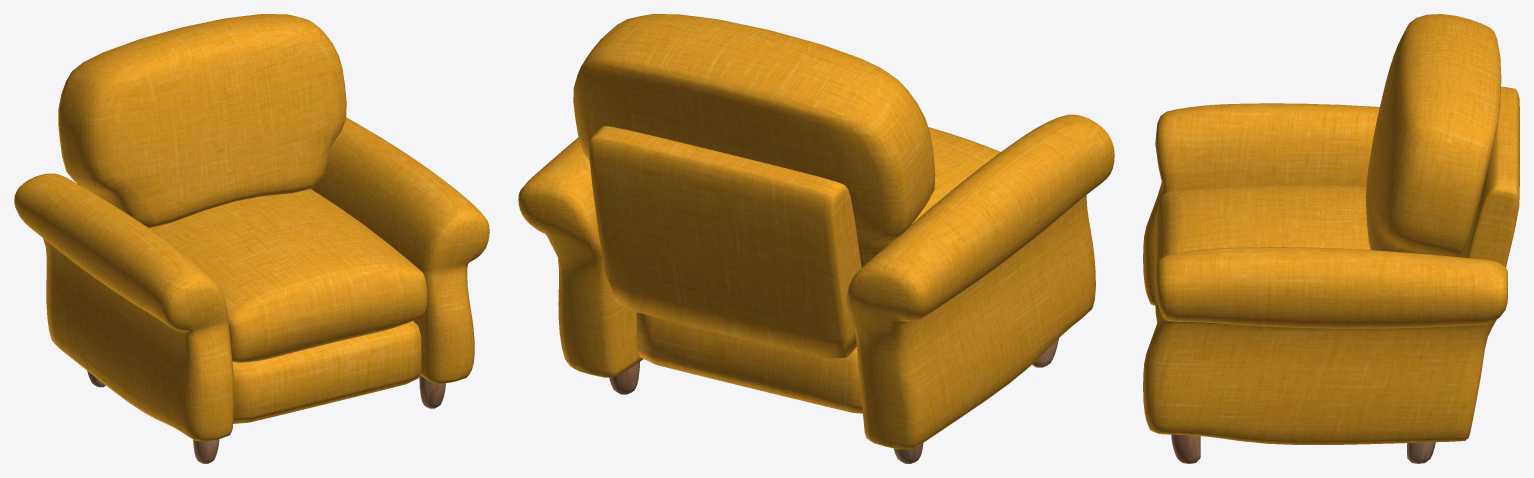
The model's file is poltrona.fbx.
The picture shows the model from 3 angles, left to right: view 1: azimuth 30°, elevation 25°; view 2: azimuth 150°, elevation 25°; view 3: azimuth 270°, elevation 25°; orthographic projection. The views are drawn at different scales.
Parts seen in each view (by area): view 1: divano; view 2: divano; view 3: divano.
Part boxes in pixels (x1,y1,x2,y2): divano: (14, 14, 489, 463); divano: (518, 14, 1114, 463); divano: (1143, 14, 1519, 463).
Bounding box in the file's own units: 86.9 × 81.71 × 80.07.
